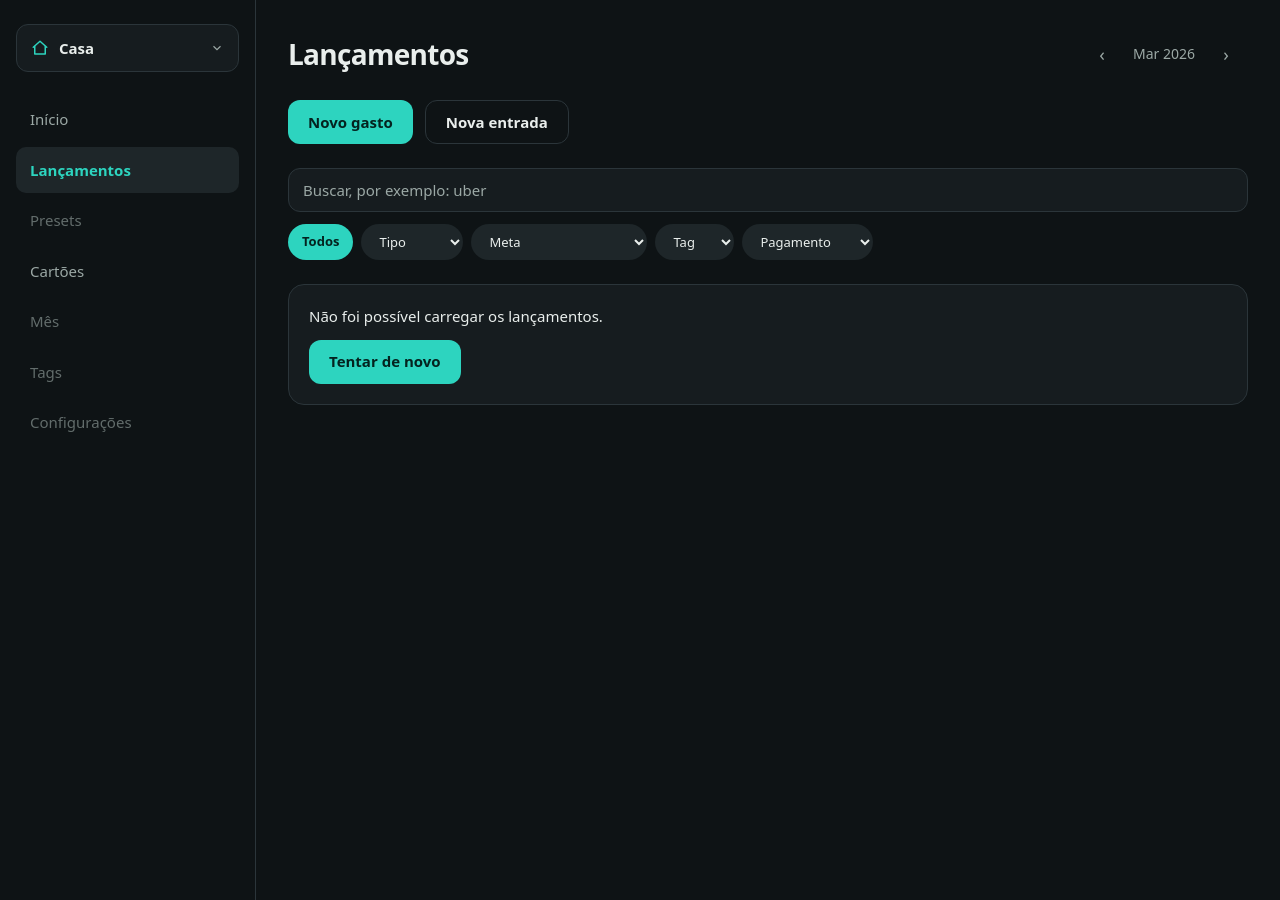
Scenario: lista de lançamentos › erro ao carregar mostra o alerta e "Tentar de novo" repete a consulta
Expected: the message reads "Não foi possível carregar os lançamentos.", [309, 306, 603, 326]
Step 1. Click the button "Tentar de novo" → x=385, y=362, box [309, 340, 461, 384]
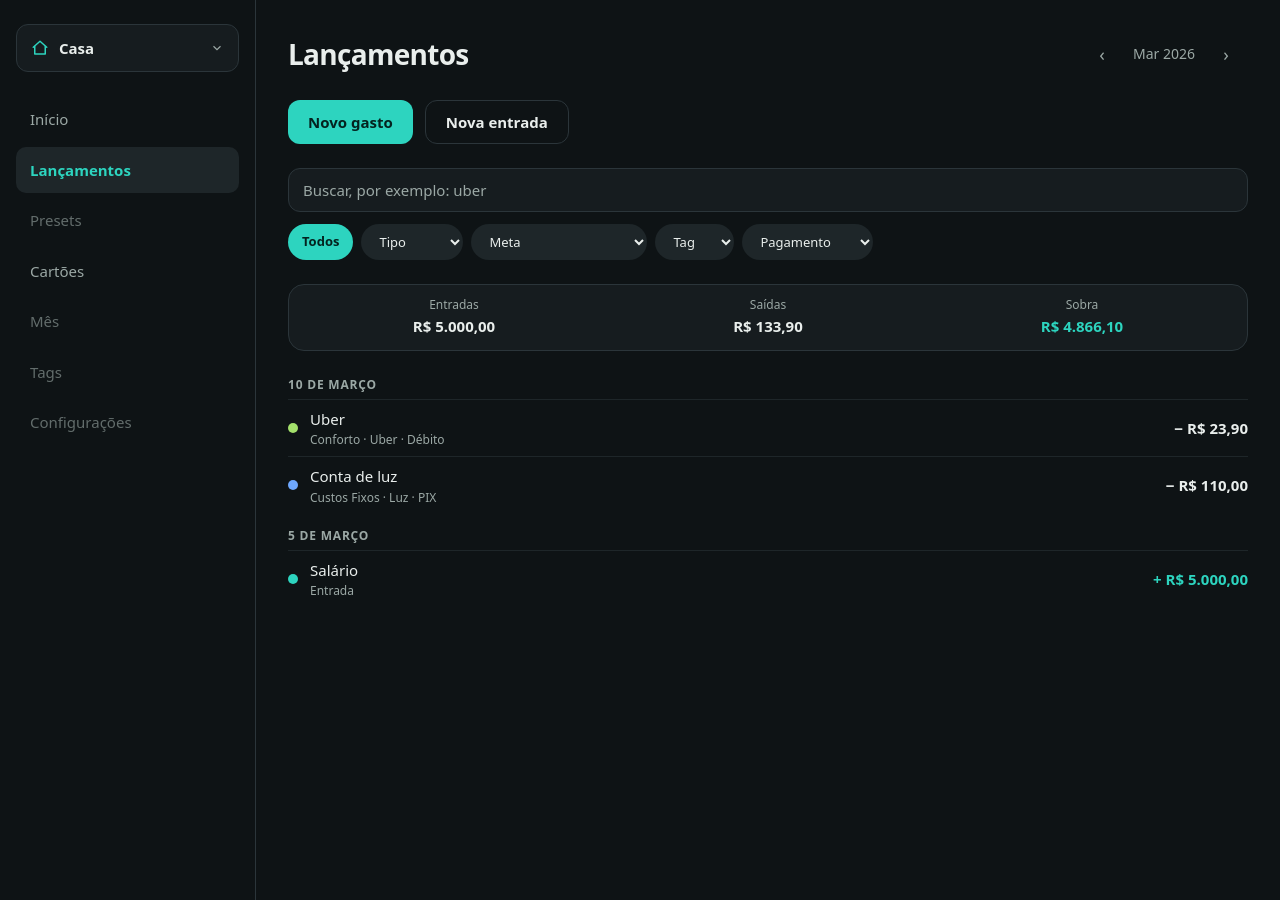
Expected: the text "Salário" is shown, [310, 560, 358, 580]
Expected: the message "Não foi possível carregar os lançamentos." is gone
